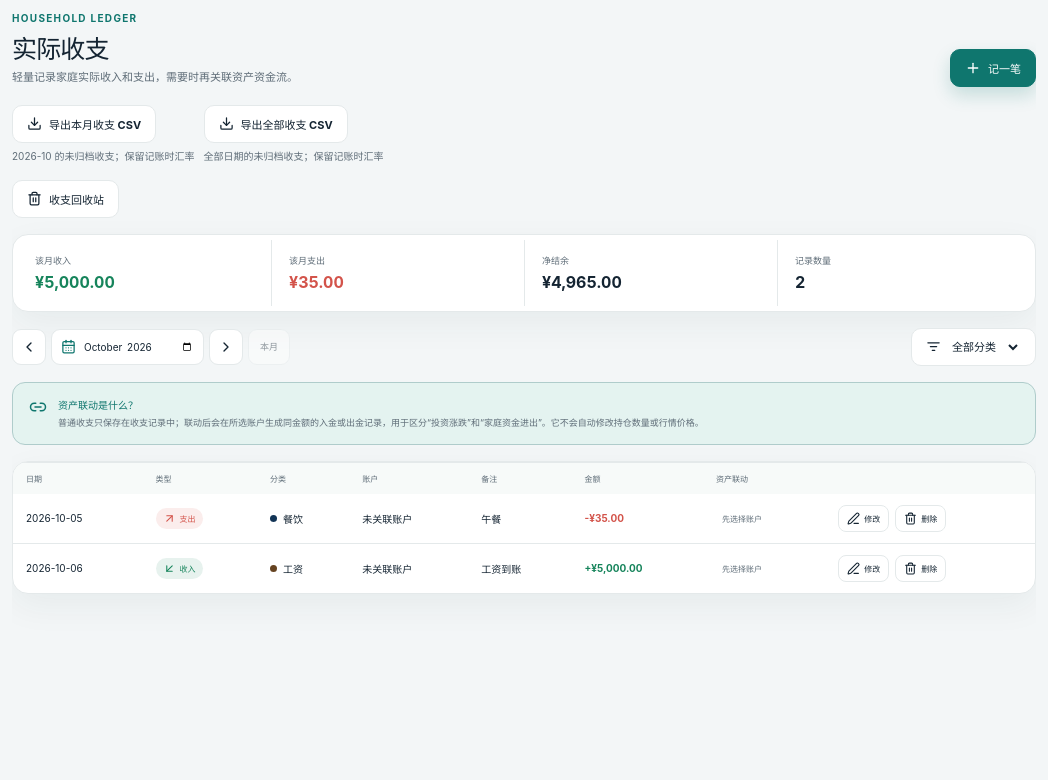
it: page interactions › filters the transaction table by category
Expected: the text "午餐" is shown, [468, 494, 572, 544]
Expected: the text "工资到账" is shown, [468, 544, 572, 593]
Select "支出 · 餐饮" in the dropdown named "筛选分类" at {"x": 984, "y": 347}, box [948, 339, 1021, 355]
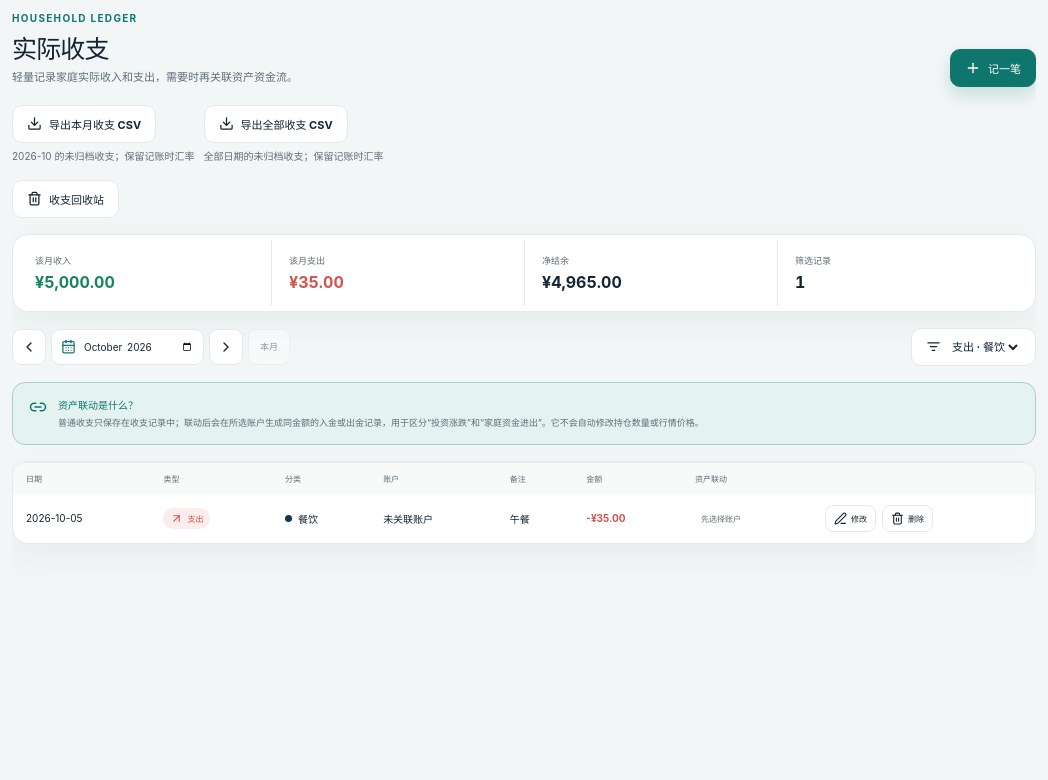
Expected: the text "午餐" is shown, [497, 494, 573, 543]
Now the text "工资到账" is gone
Now the text "1" is shown, box [795, 272, 805, 292]
Select "支出 · 交通" in the dropdown named "筛选分类" at {"x": 984, "y": 347}, box [948, 339, 1021, 355]
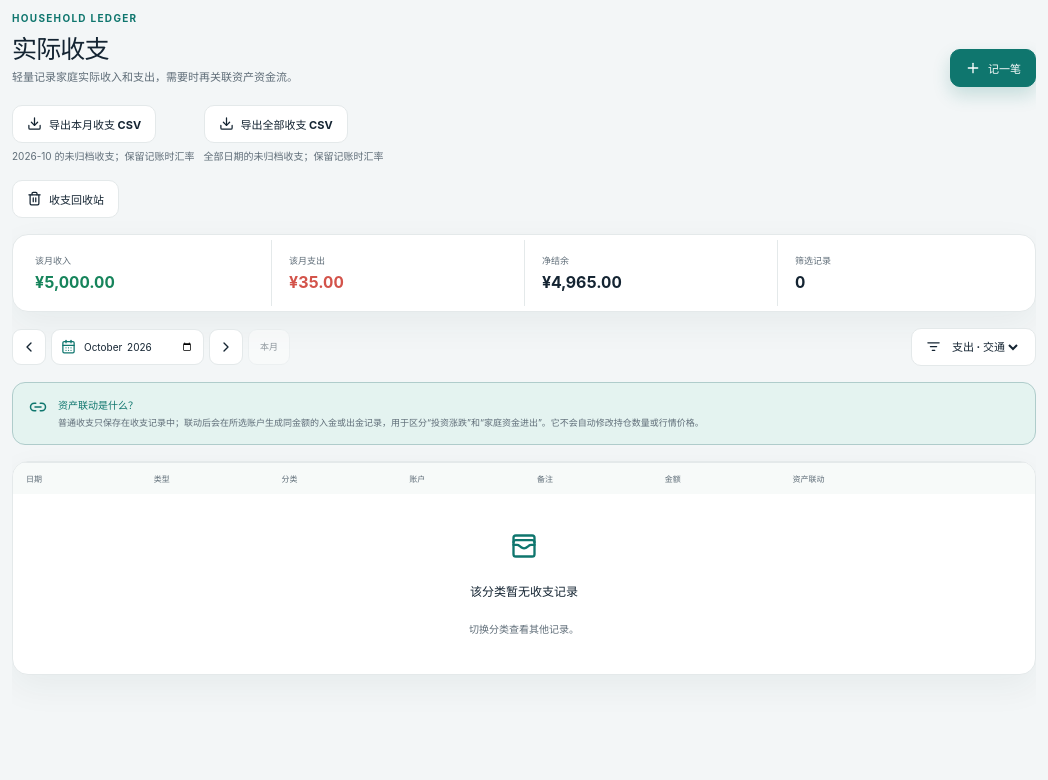
Now the text "该分类暂无收支记录" is shown, box [470, 582, 578, 599]
Select "全部分类" in the dropdown named "筛选分类" at {"x": 984, "y": 347}, box [948, 339, 1021, 355]
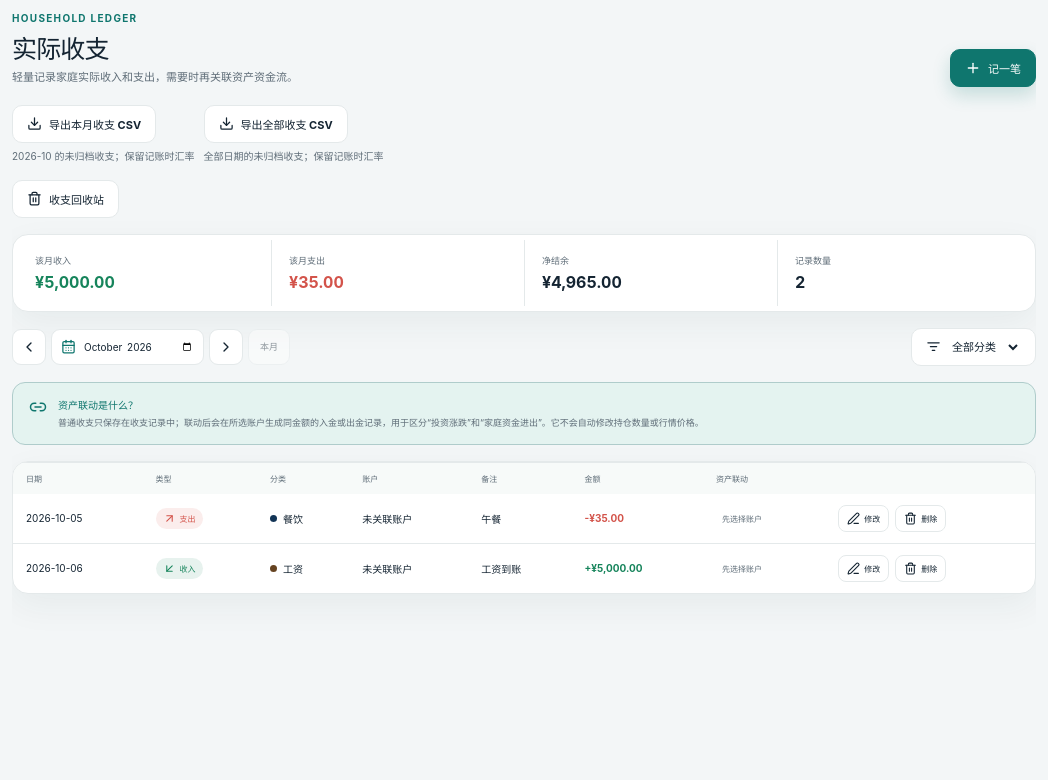
Now the text "工资到账" is shown, box [468, 544, 572, 593]
